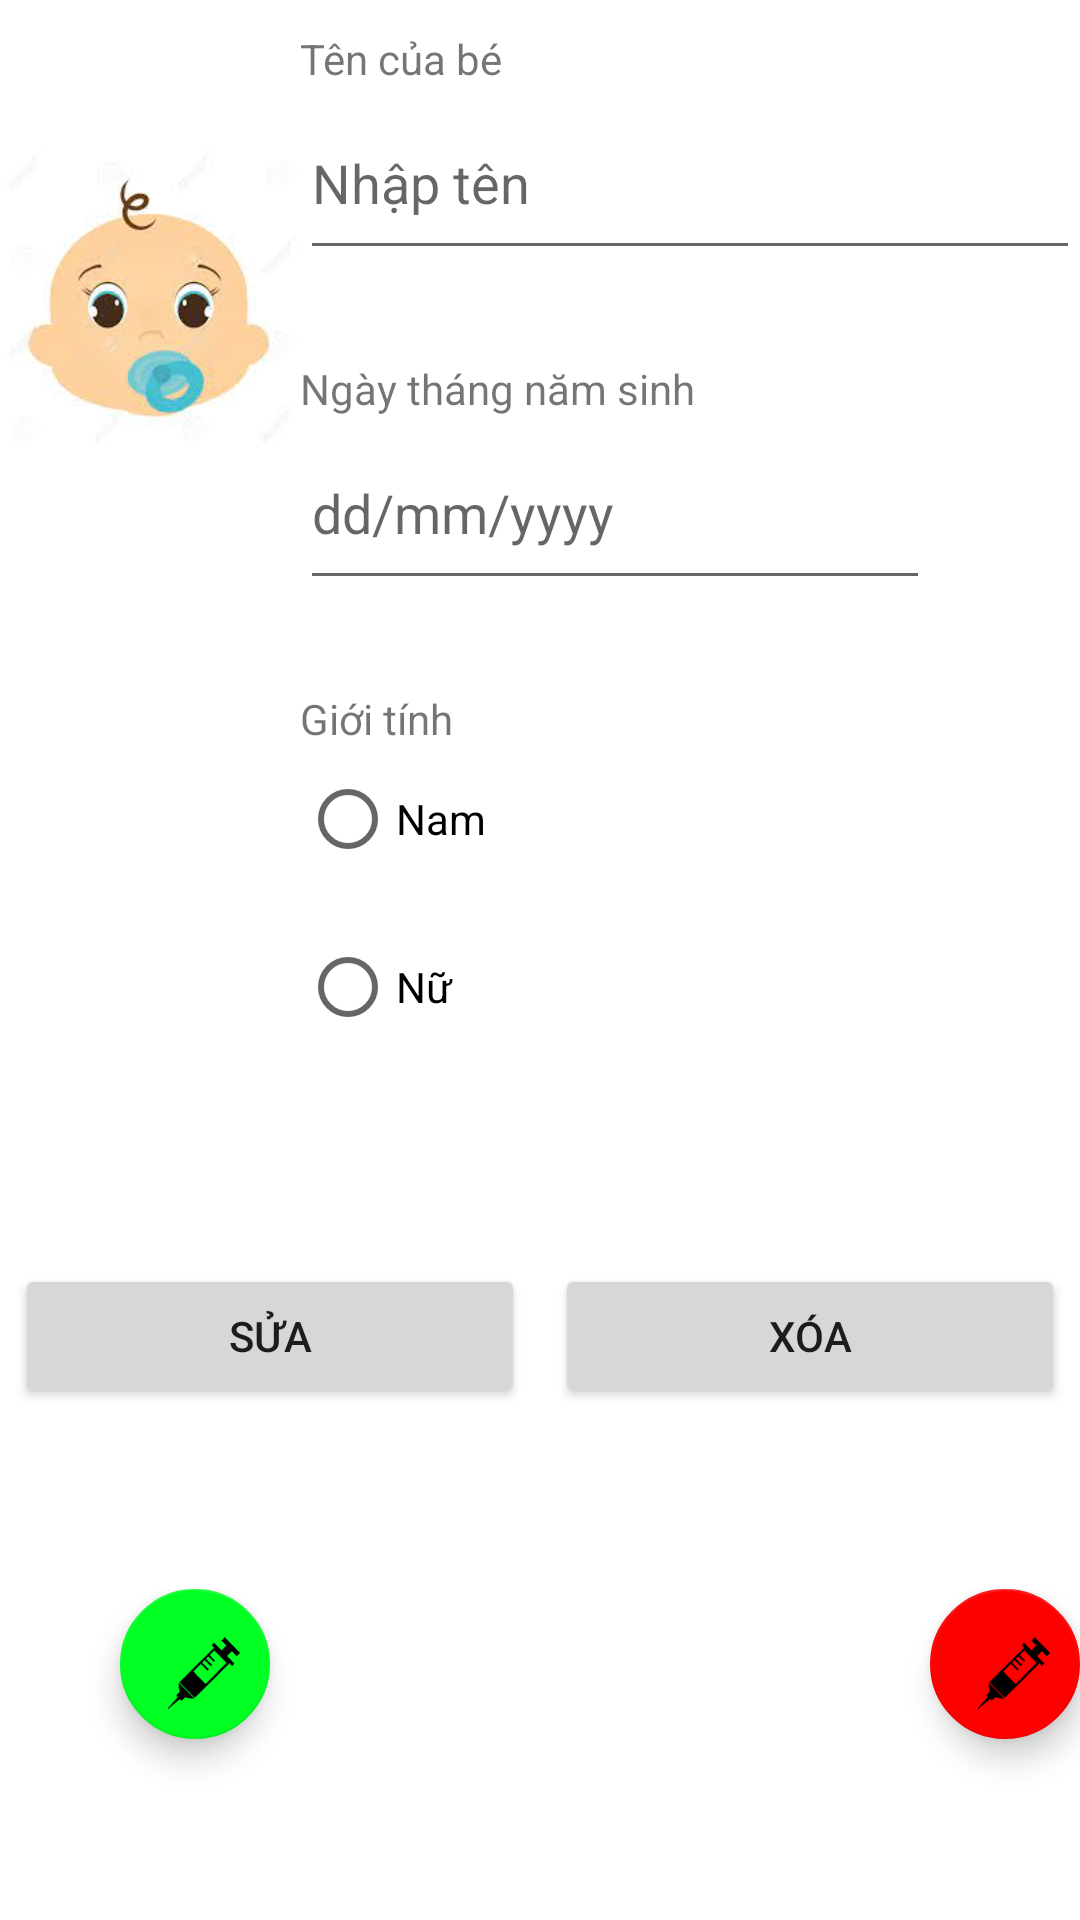

Where icons sit on this 1080px x 1920px app screen, as (x1, y1, x2, y2):
baby boy: (26, 180, 270, 417)
needle: (120, 1589, 270, 1739), (930, 1589, 1080, 1739)
